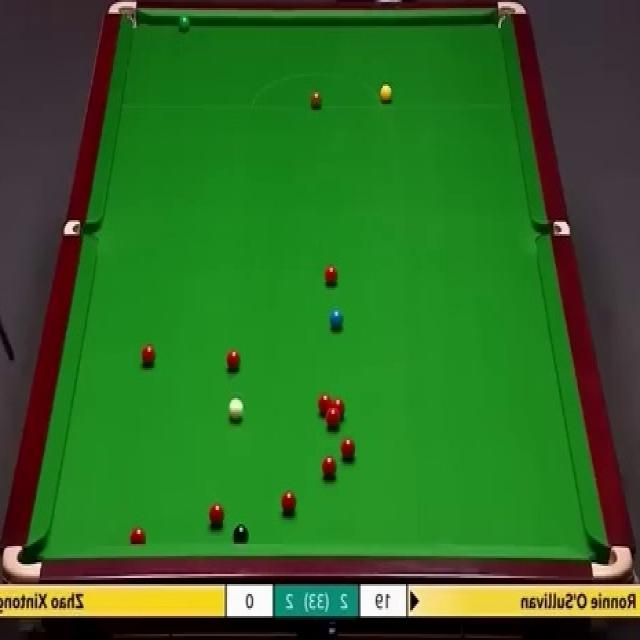black-ball: (232, 523, 248, 545)
blue-ball: (328, 308, 344, 329)
brown-ball: (310, 88, 322, 108)
green-ball: (177, 11, 190, 30)
red-ball: (320, 451, 337, 480), (320, 264, 338, 291), (225, 346, 242, 373), (280, 489, 296, 517), (208, 504, 225, 530), (339, 439, 359, 461), (142, 344, 156, 369), (332, 398, 346, 422), (318, 393, 331, 418), (129, 526, 147, 543), (324, 411, 340, 430)
white-ball: (230, 397, 246, 420)
yellow-ball: (381, 86, 393, 102)
